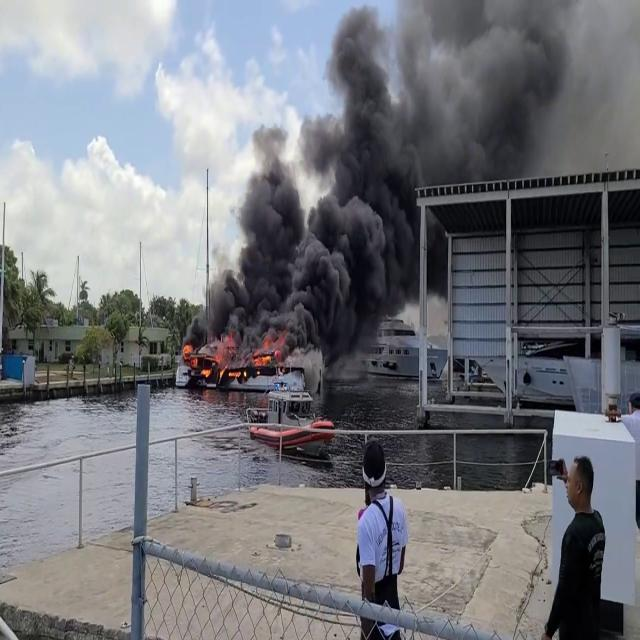Fire: (191, 343, 281, 381)
Smoke: (202, 1, 557, 371), (413, 0, 640, 196)
